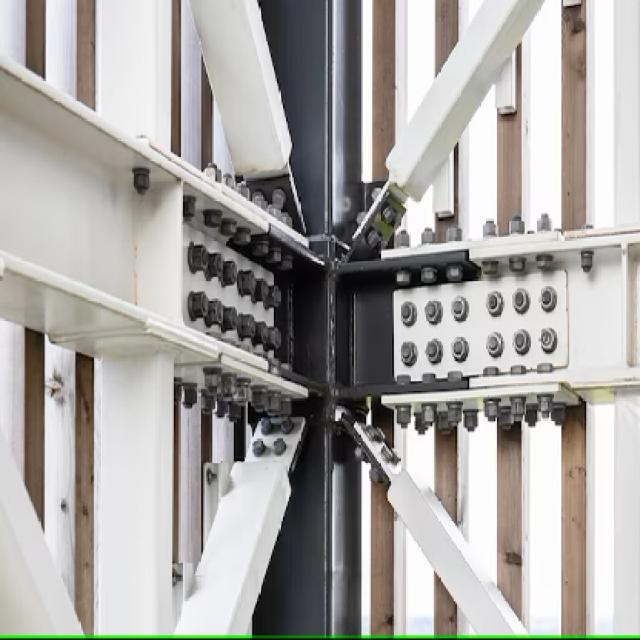Regular bolt: (511, 331, 534, 360), (424, 301, 445, 329), (538, 290, 560, 314), (512, 292, 531, 318), (399, 344, 421, 366), (449, 298, 469, 322), (448, 338, 468, 362), (485, 332, 503, 358), (425, 340, 442, 366), (539, 329, 556, 354), (400, 302, 416, 327), (489, 294, 504, 318)
